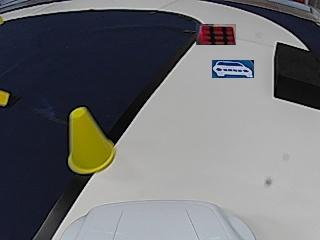block: (274, 43, 319, 111)
cone: (69, 107, 117, 172)
